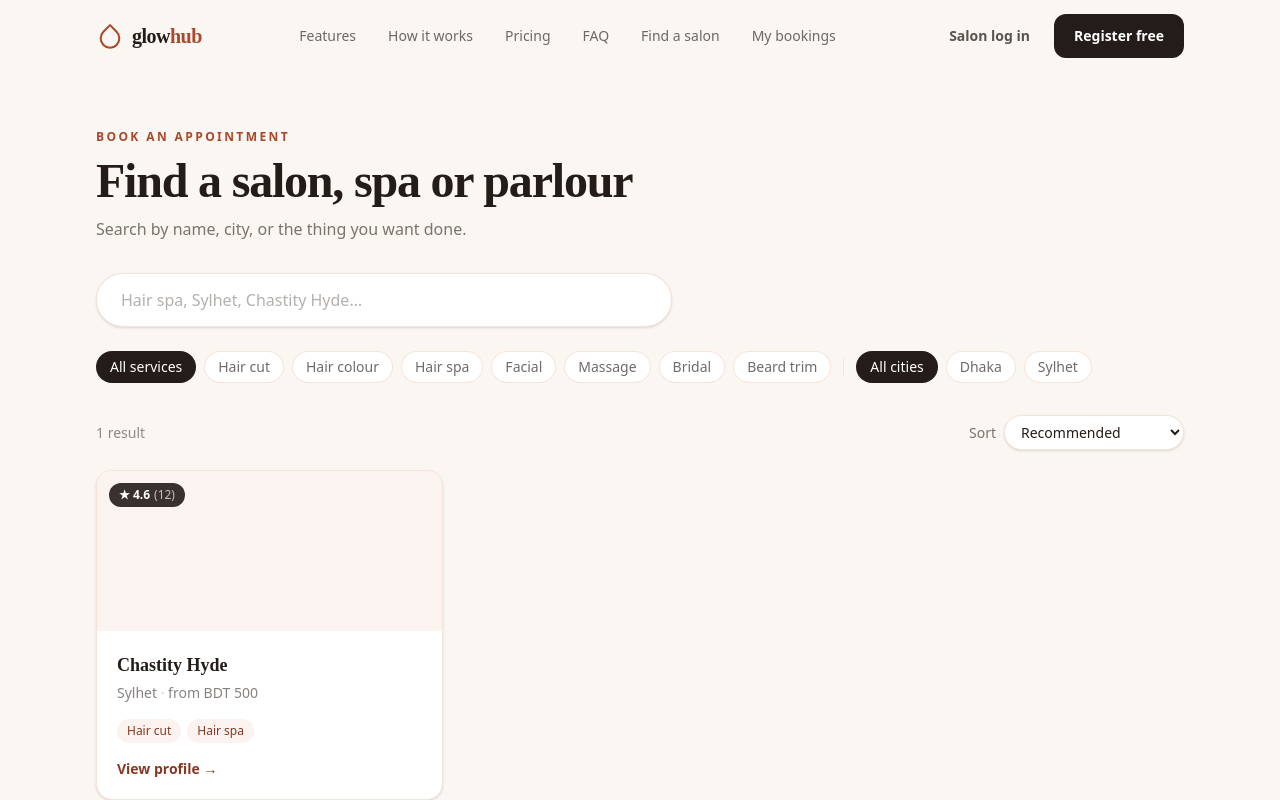
SalonSearchView › keeps the newer search results when an older search resolves after it
This screenshot has width=1280, height=800.
In the search field with placeholder "Hair spa, Sylhet, Chastity Hyde…": (384, 300) [96,273,672,327], type "aaa"
Wait 300 ms
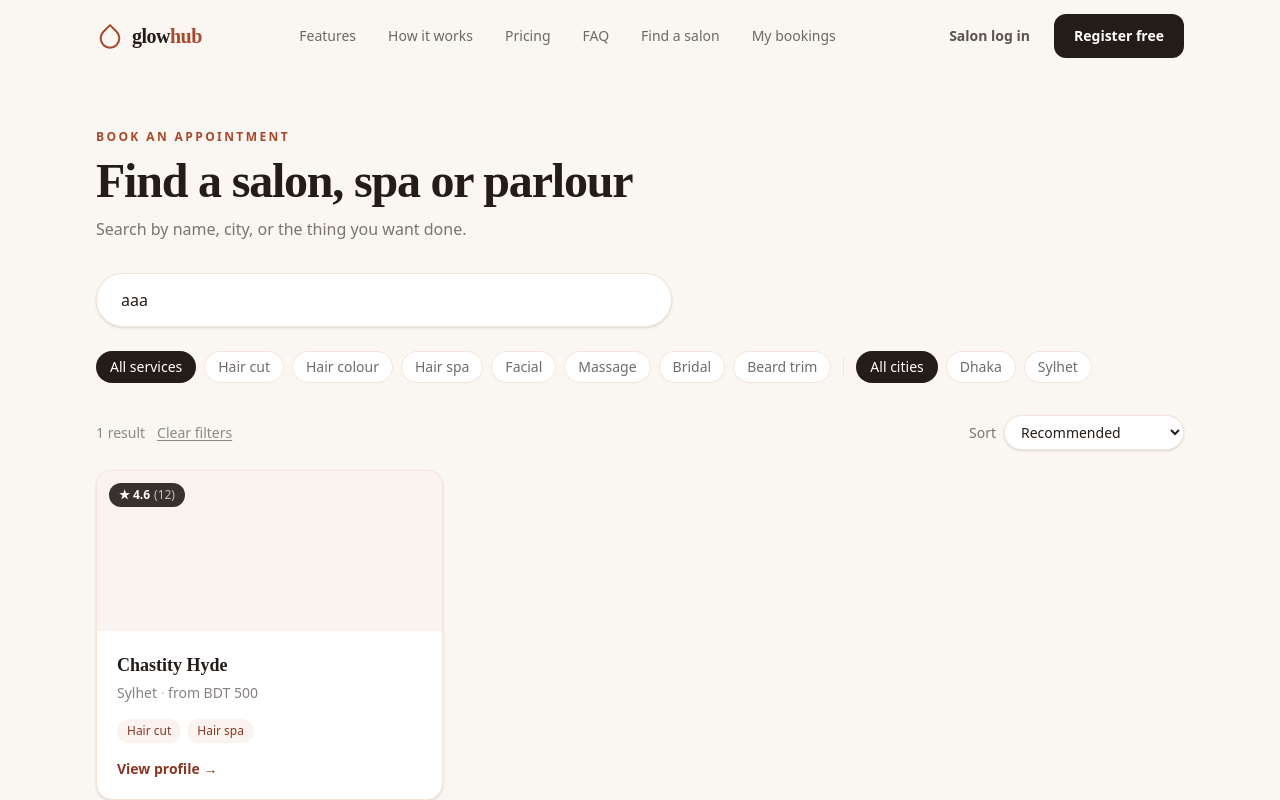
Replace the text in the search field named "Search salons, spas and parlours" with "bbb": (384, 300) [96,273,672,327]
Wait 300 ms
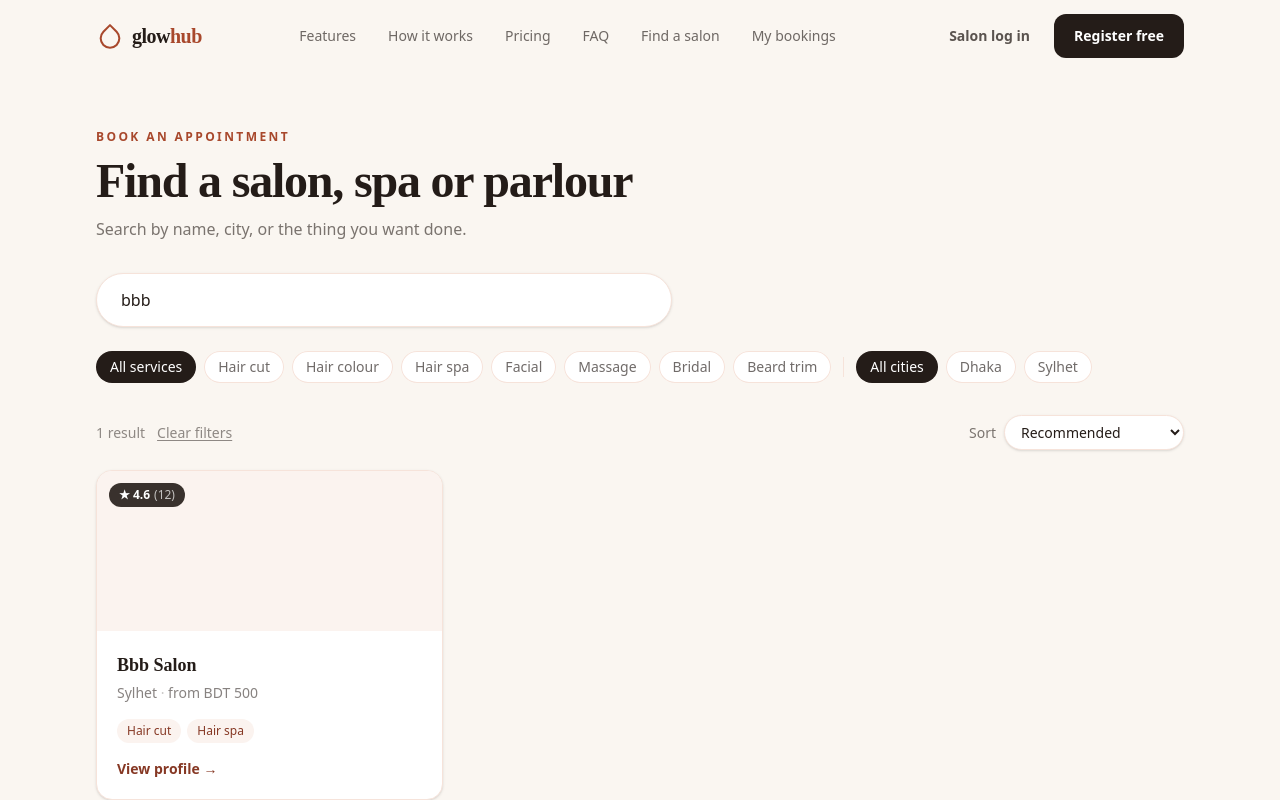
Expected: the text "Bbb Salon" is shown, [117,655,197,675]
